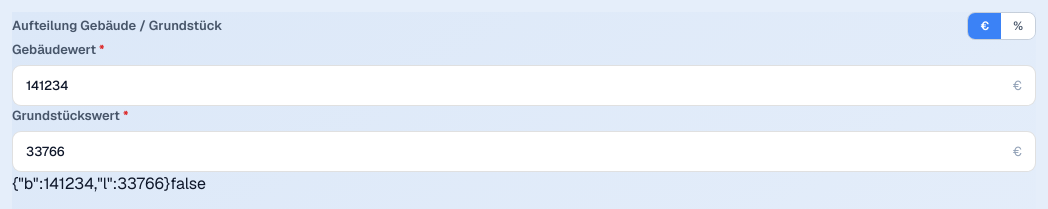
Test case: BuildingShareFields › does not change the euro values just by switching modes
The width and height of the screenshot is (1048, 209).
Click the button "%". click: (1018, 26)
box: [1001, 13, 1035, 39]
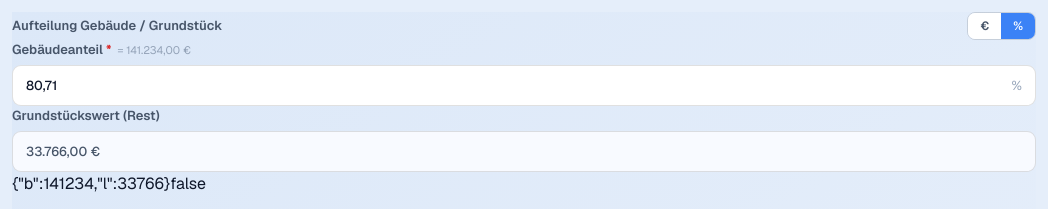
Click the button "€". click: (985, 26)
box: [968, 13, 1001, 39]
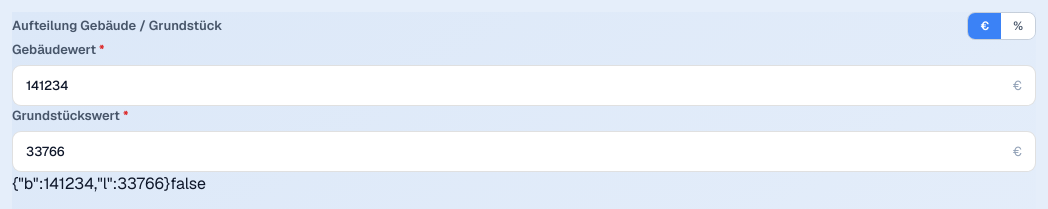
Expected: the number field labelled "Gebäudewert * €" holds "141234", [13, 66, 1012, 105]
